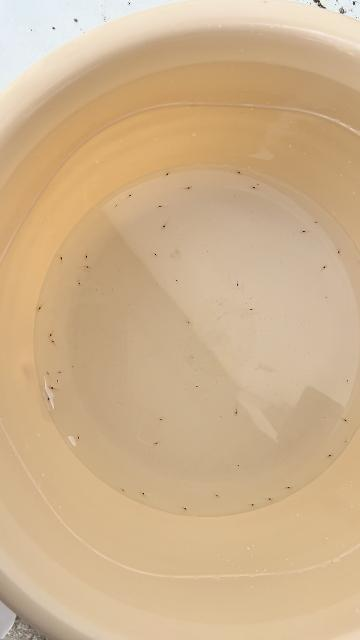benur: (160, 224, 167, 232), (328, 452, 334, 458), (152, 441, 158, 447), (158, 416, 164, 422), (186, 185, 193, 190), (36, 306, 41, 313), (183, 507, 190, 512), (323, 263, 328, 270), (234, 411, 239, 418), (59, 254, 64, 260), (251, 503, 257, 508), (287, 485, 293, 490), (343, 419, 349, 424), (336, 248, 341, 254), (250, 307, 256, 312), (86, 265, 91, 270), (77, 282, 82, 287), (47, 334, 52, 339), (49, 385, 54, 390), (47, 398, 52, 403), (76, 437, 81, 442), (140, 490, 145, 495), (300, 229, 305, 234), (236, 284, 241, 289), (249, 185, 255, 189), (50, 338, 54, 343), (268, 497, 273, 501), (324, 296, 329, 300), (236, 170, 240, 175), (156, 205, 161, 209), (152, 252, 157, 256), (344, 439, 348, 444), (59, 370, 63, 374), (122, 489, 126, 493), (216, 495, 220, 499), (346, 378, 350, 382), (315, 220, 319, 224), (165, 173, 168, 178), (129, 193, 134, 196), (85, 255, 88, 260), (115, 203, 118, 207), (56, 378, 59, 382), (195, 385, 199, 388), (174, 279, 178, 282), (237, 464, 241, 467), (46, 371, 49, 374)
